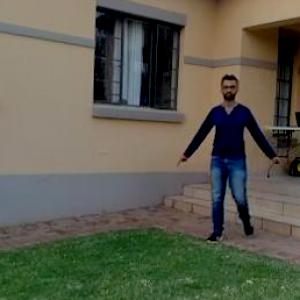land: (180, 77, 282, 237)
